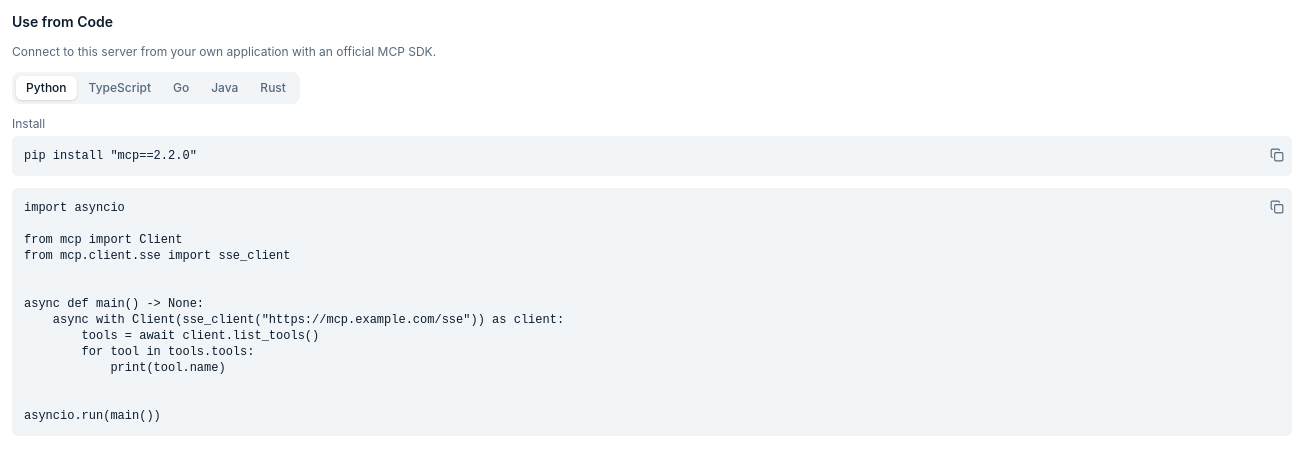
Test: MCPCodeSnippets › explains that Rust cannot reach an SSE-only server
Click the button "Rust": [273, 88] box [250, 76, 296, 100]
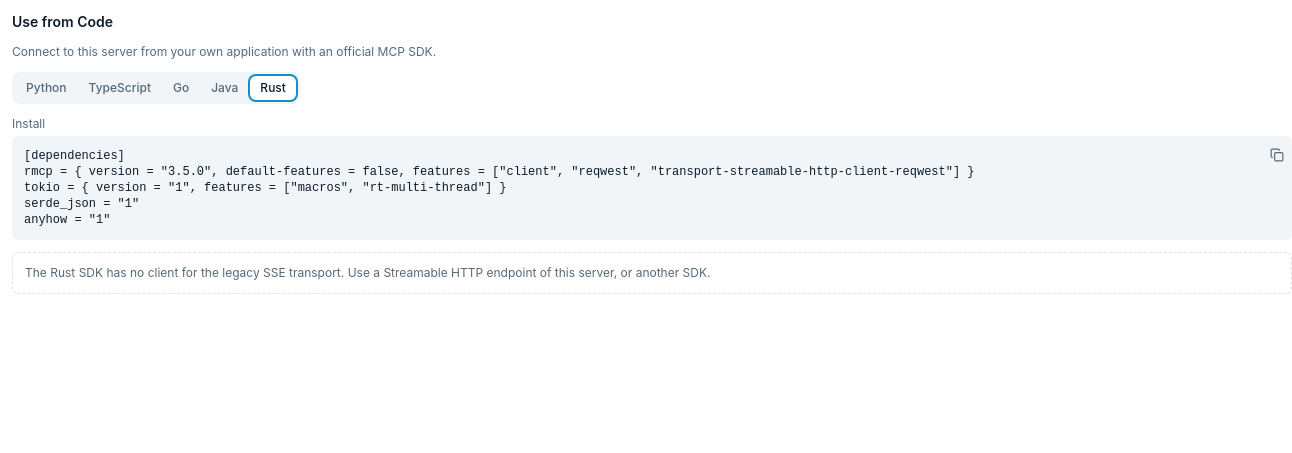
Now the text "no client for the legacy SSE transport" is shown, box [25, 265, 710, 280]
